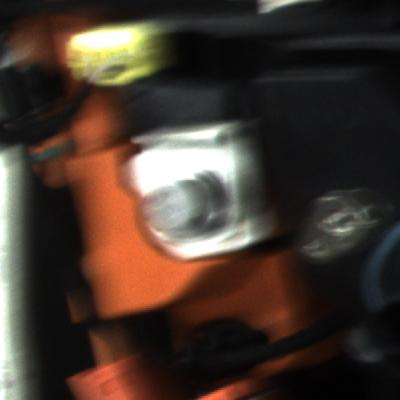nut_b: (144, 164, 233, 249)
